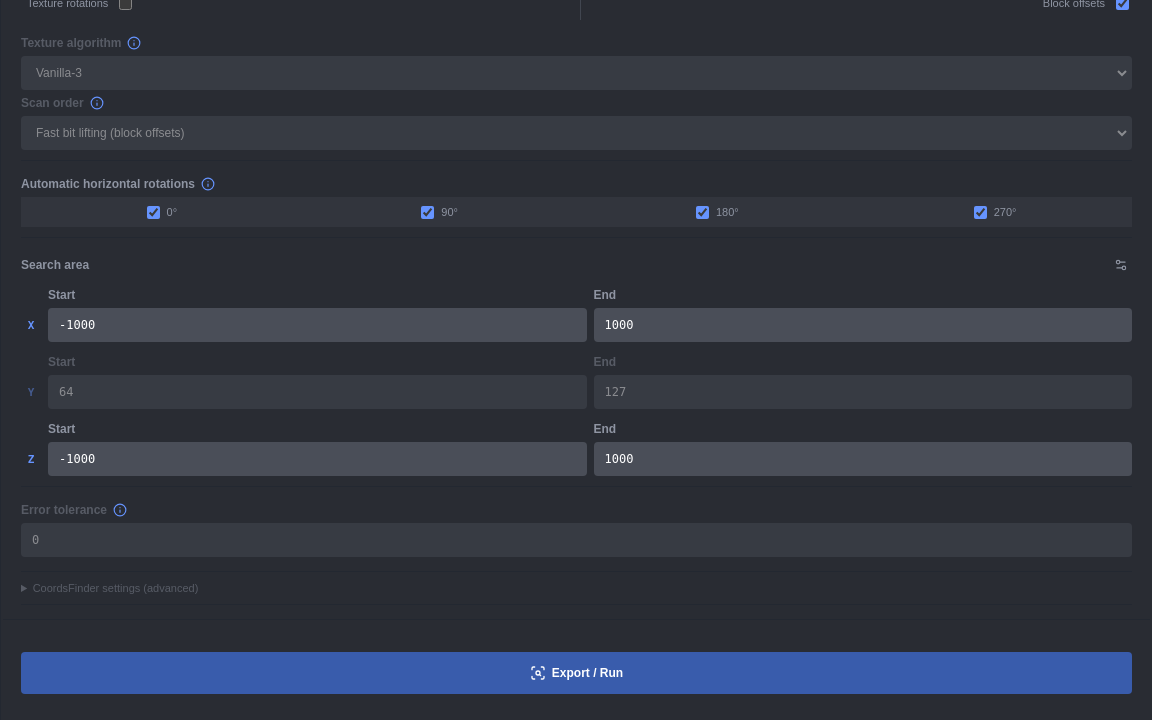
Test: Export / Run workspace › exports only enabled evidence when textures are disabled
This screenshot has width=1152, height=720.
(page scrolled)
Click the button "Export / Run".
click(576, 673)  # box [21,652,1132,694]
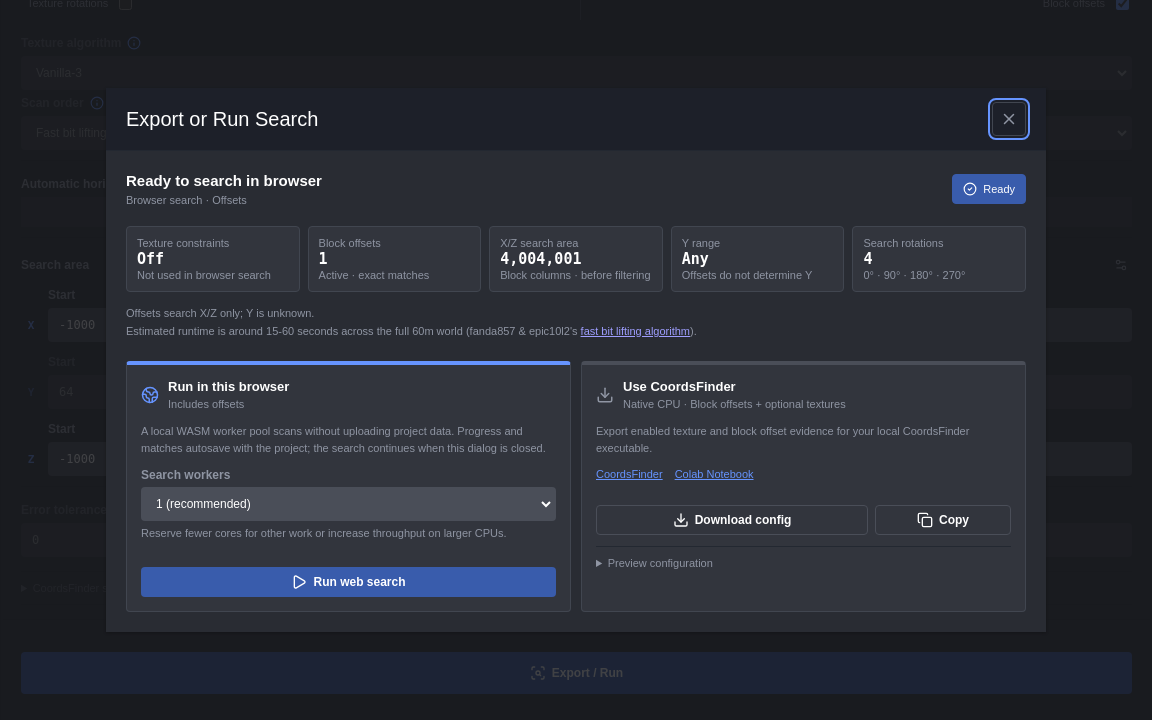
Result: the button "Download config" is enabled at [596,505,868,535]
